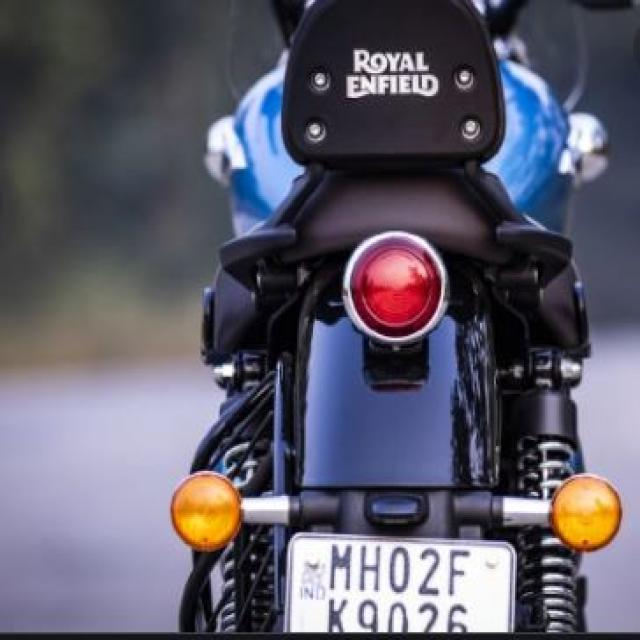license_plate: (281, 529, 515, 634)
